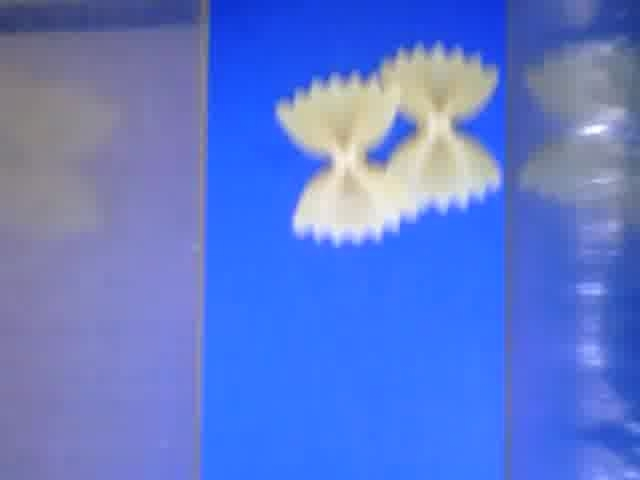farfalle: (273, 72, 413, 243), (382, 44, 501, 214)
